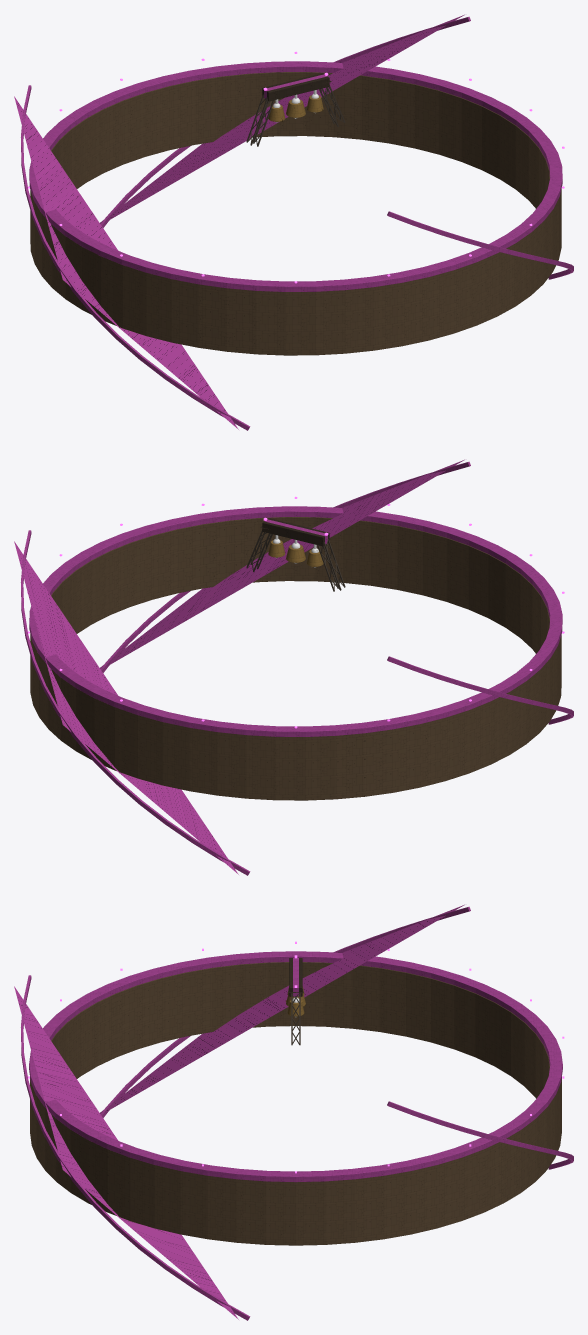
File: var_station_kit_choir_v01.glb
3 renders of one model, top to bottom at view 1: azimuth 30°, elevation 25°; view 2: azimuth 150°, elevation 25°; view 3: azimuth 270°, elevation 25°, orthographic.
Parts seen in each view (by area): view 1: LOD0_Hull, LOD1_Hull, LOD0_Livery, LOD1_Livery, LOD0_Mechanical, LOD0_Armor, LOD0_BrushedMetal; view 2: LOD0_Hull, LOD1_Hull, LOD0_Livery, LOD1_Livery, LOD0_Mechanical, LOD0_Armor, LOD0_BrushedMetal; view 3: LOD0_Hull, LOD1_Hull, LOD0_Livery, LOD1_Livery.
Boxes of the visible parts, x1,y1,x2,y2 form: LOD0_Hull: (30, 72, 561, 355); LOD1_Hull: (30, 72, 561, 355); LOD0_Livery: (21, 16, 573, 430); LOD1_Livery: (14, 14, 562, 429); LOD0_Mechanical: (246, 85, 345, 146); LOD0_Armor: (262, 73, 329, 101); LOD0_BrushedMetal: (268, 95, 323, 121); LOD0_Hull: (30, 517, 561, 800); LOD1_Hull: (30, 517, 561, 800); LOD0_Livery: (21, 461, 573, 875); LOD1_Livery: (14, 459, 562, 874); LOD0_Mechanical: (246, 530, 345, 591); LOD0_Armor: (262, 518, 329, 546); LOD0_BrushedMetal: (268, 540, 323, 566); LOD0_Hull: (30, 962, 561, 1245); LOD1_Hull: (30, 962, 561, 1245); LOD0_Livery: (21, 906, 573, 1320); LOD1_Livery: (14, 904, 562, 1319).
Size of the model in its own units: 111 by 51.98 by 111.
7 materials, 6 textured.
